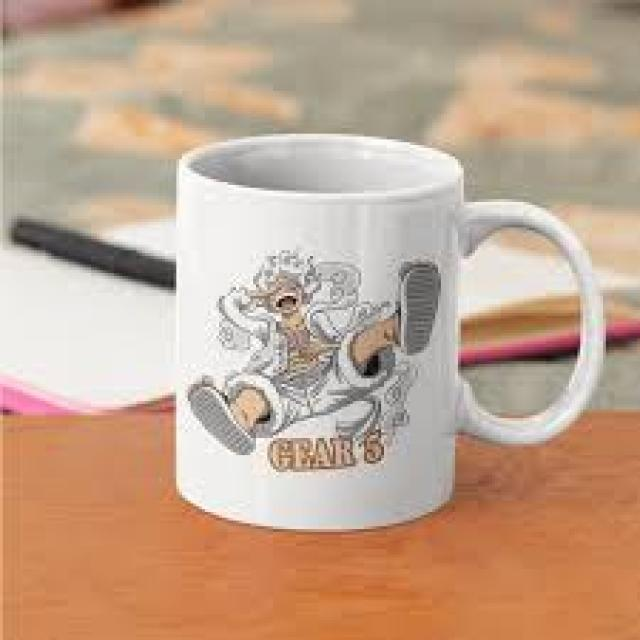taza: (175, 130, 605, 530)
